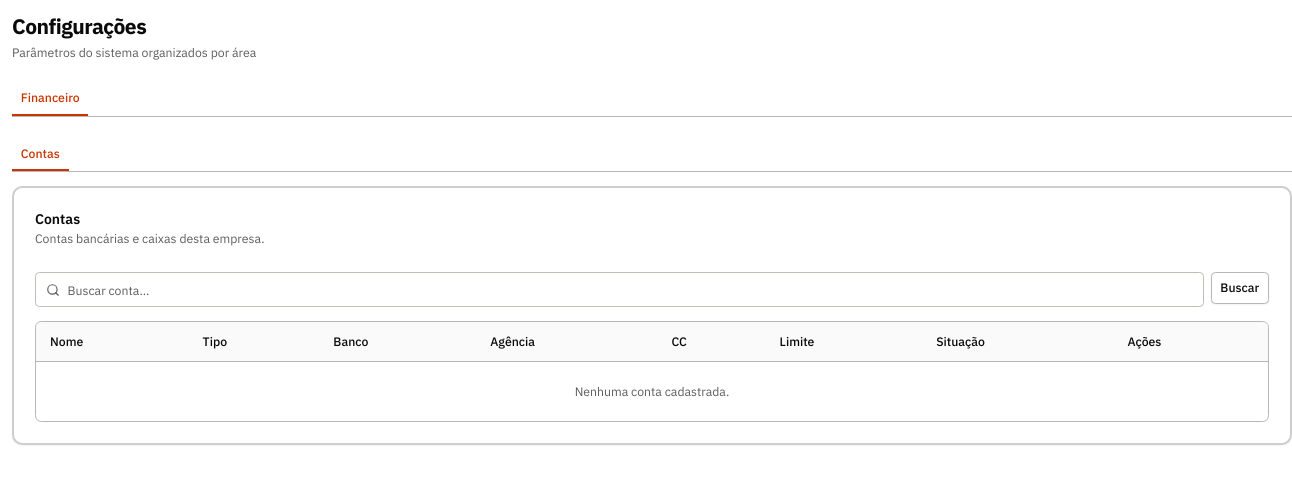
Test: Configurações — Contas › mostra lista vazia e mantém mensagem de falha no carregamento
Expected: the text "Nenhuma conta cadastrada." is shown, [36,361,1268,421]
Click the button "Buscar".
click(1240, 288)  # box [1211,272,1269,304]
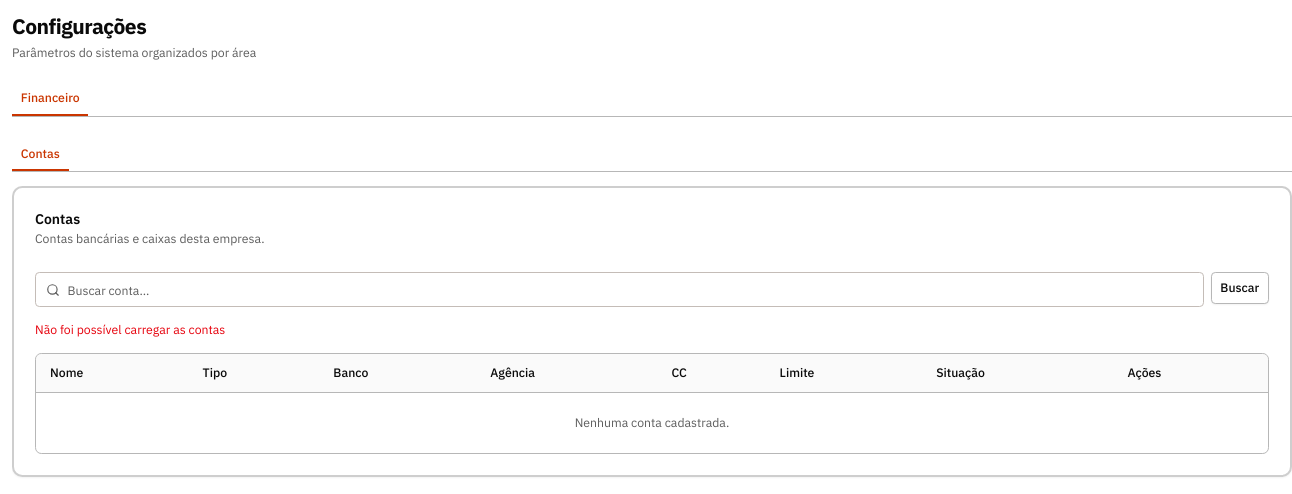
Now the text "Não foi possível carregar as contas" is shown, box [35,321,225,337]
